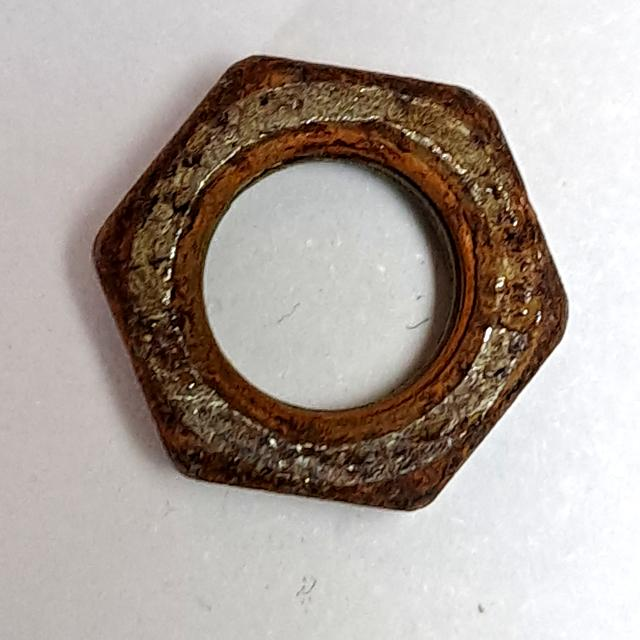Rust: (83, 49, 576, 525)
